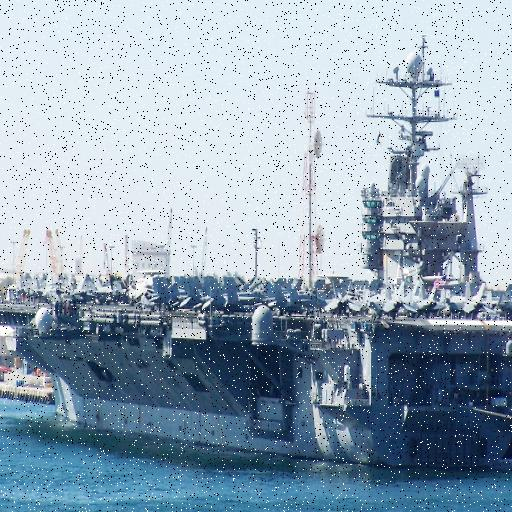Portanaves: (1, 29, 512, 483)
